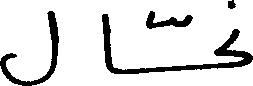ا: (99, 12, 114, 74)
ح: (203, 48, 252, 67)
ل: (0, 9, 59, 85)
ن: (214, 0, 252, 48)
